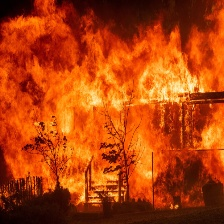fire: (1, 4, 223, 208)
